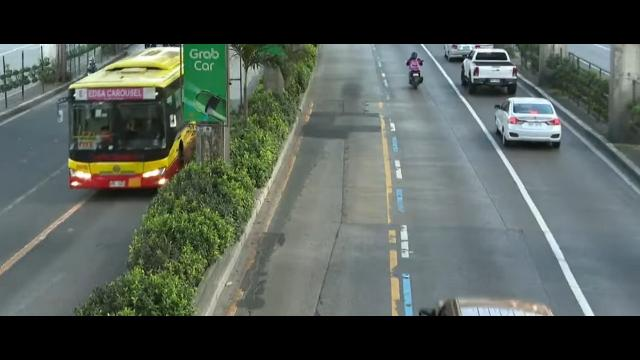bus: (68, 47, 187, 209)
car: (487, 91, 574, 155)
motorcycle: (404, 53, 425, 92)
pickup-truck: (463, 47, 517, 97)
